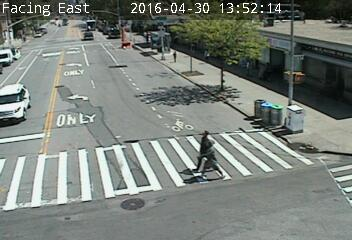neg: (270, 90, 295, 124), (239, 76, 259, 102), (262, 60, 278, 81), (212, 54, 227, 76), (305, 164, 320, 183)
pos: (185, 137, 233, 201)
